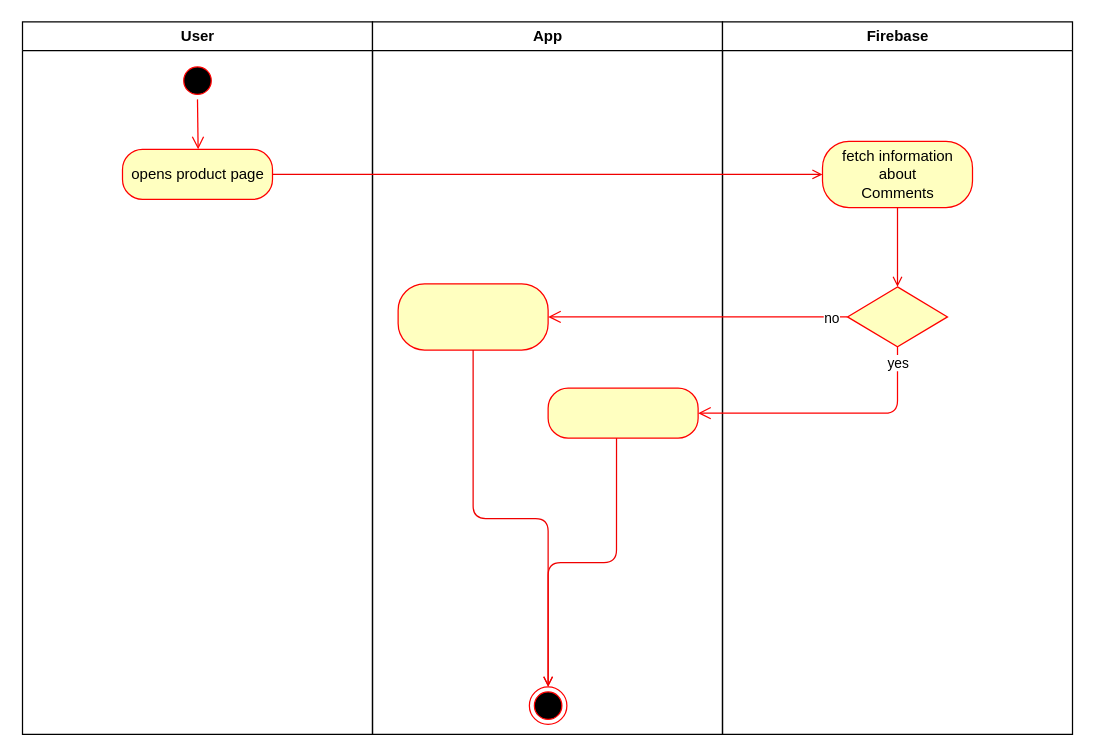
Some shapes in this 1094 by 756 pixel diagram are drawn without their labels. Each missing label, with the centre of its shape:
"Found?" belongs at (897,316).
"list Comments" belongs at (622,412).
"show info that no Comments are present" belongs at (472,316).
